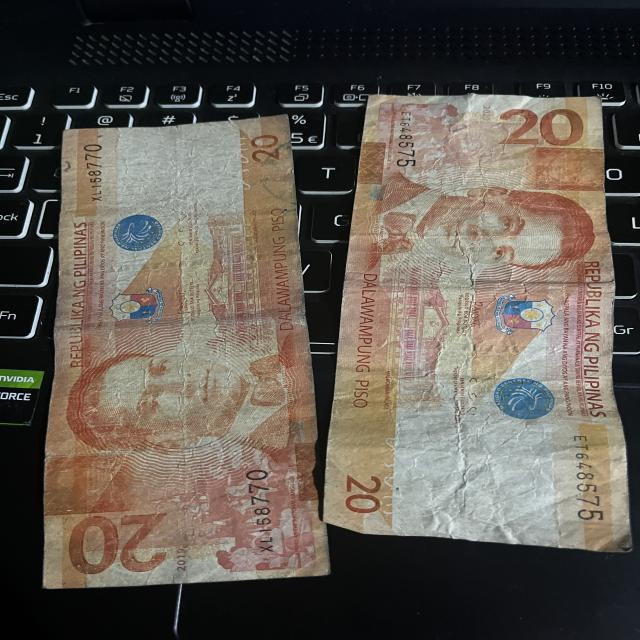concealed_value: (48, 457, 139, 513), (526, 149, 606, 193)
serial_number: (567, 428, 612, 527), (240, 463, 281, 559), (387, 102, 424, 170), (78, 142, 112, 204)
value: (57, 510, 185, 580), (486, 109, 592, 153)
